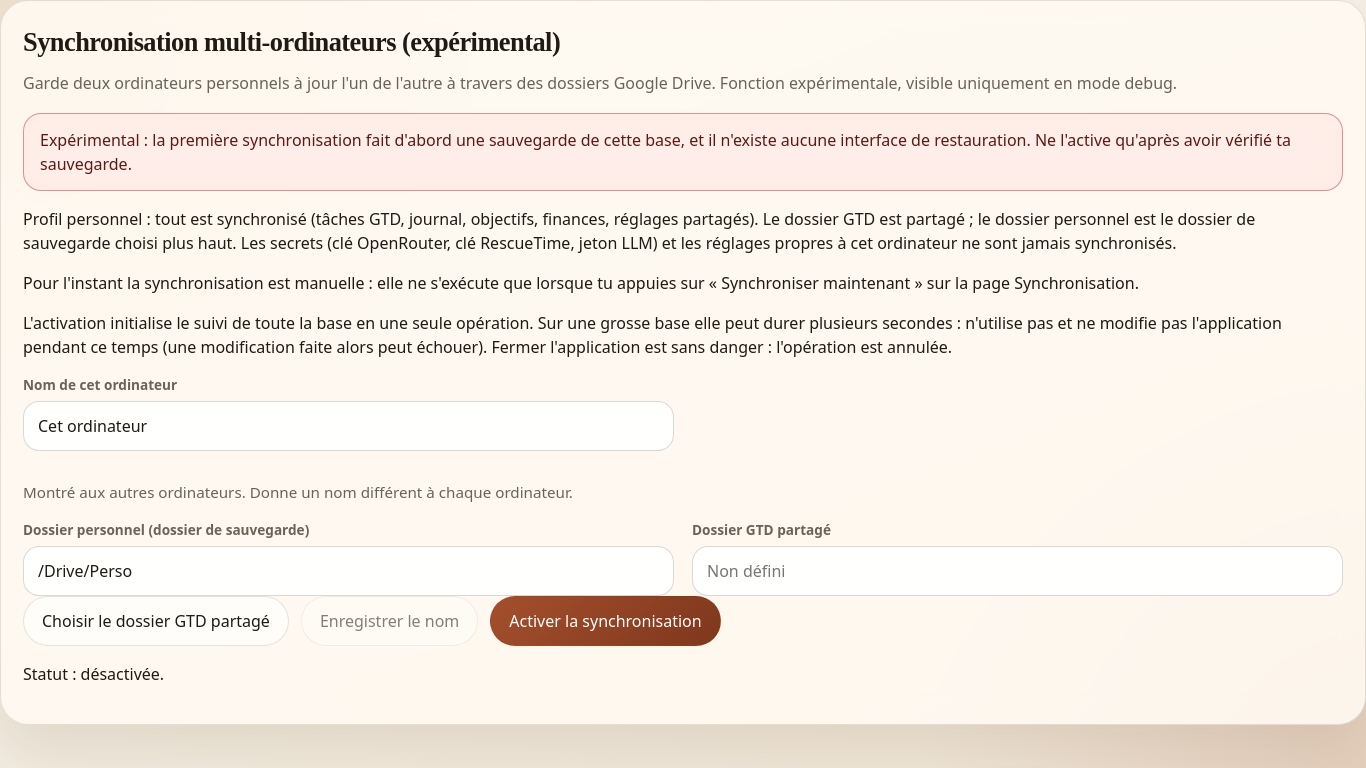
Test: choosing the shared GTD folder › refuses the backup folder itself and saves nothing
Click the button "Choisir le dossier GTD partagé". click: (156, 621)
box: [23,596,289,646]
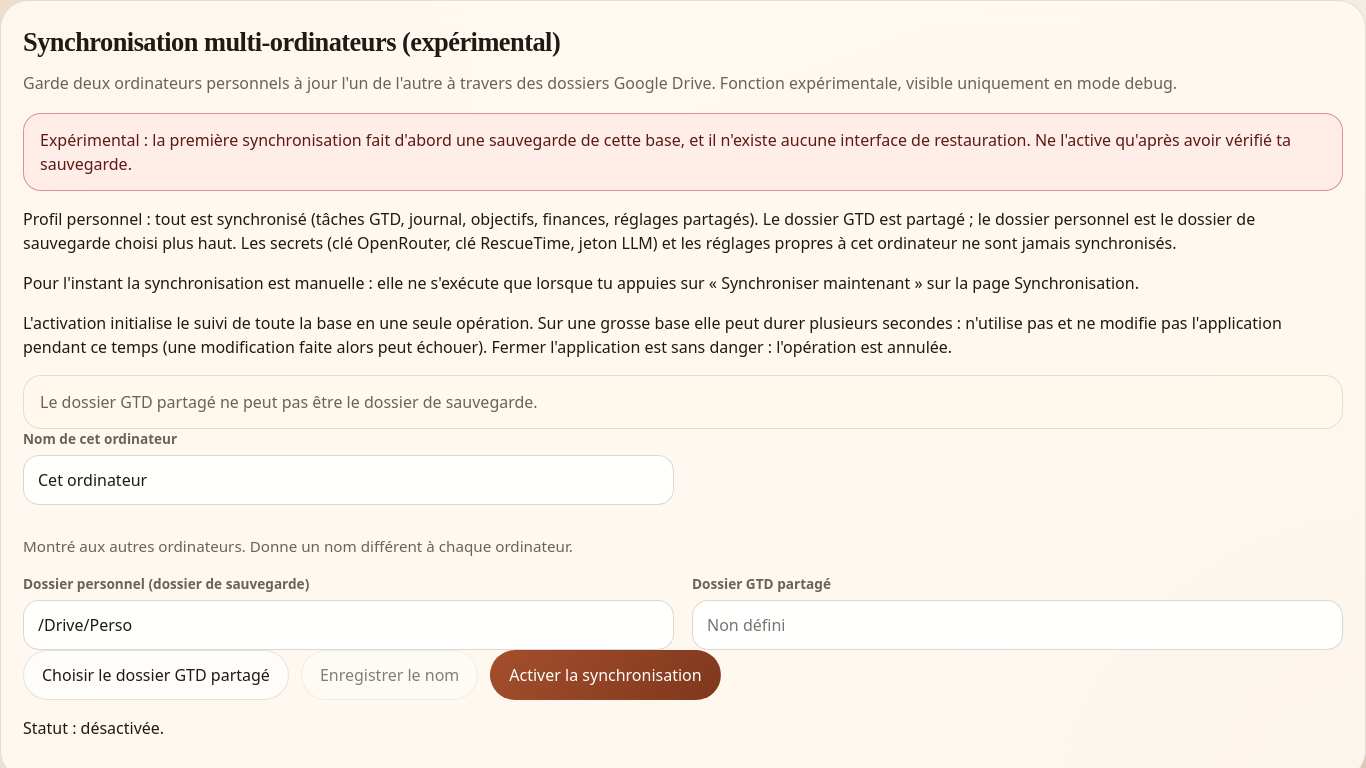
Now the text "Le dossier GTD partagé ne peut pas être le dossier de sauvegarde." is shown, box [23,375,1343,429]
